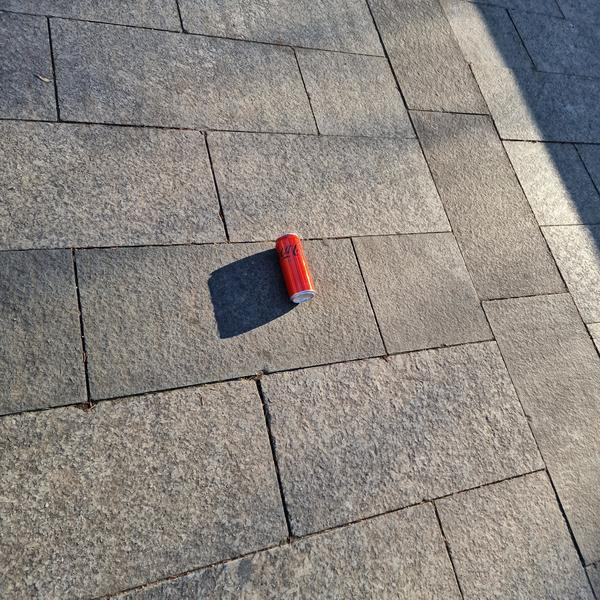can: (271, 229, 318, 306)
